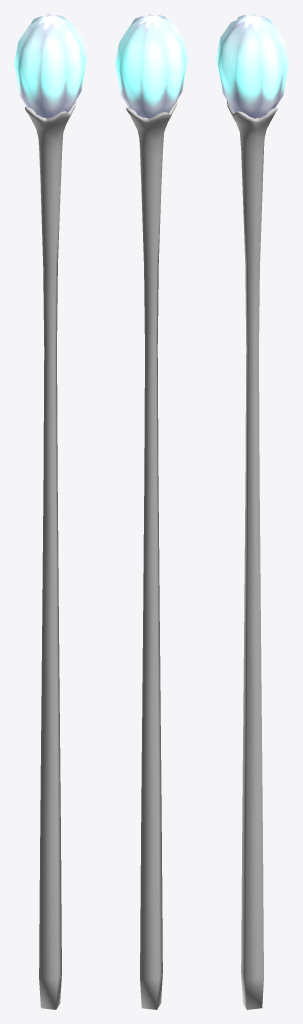
Rendered from GlowbushBud_2.fbx.
3 renders of one model, left to right at view 1: azimuth 30°, elevation 25°; view 2: azimuth 210°, elevation 25°; view 3: azimuth 330°, elevation 25°, orthographic.
Parts seen in each view (by area): view 1: Glowbush_Bud2; view 2: Glowbush_Bud2; view 3: Glowbush_Bud2.
Boxes of the visible parts, box(x1,y1,x2,y2) form: Glowbush_Bud2: box(14, 14, 86, 1009); Glowbush_Bud2: box(115, 14, 187, 1009); Glowbush_Bud2: box(216, 14, 288, 1009).
Bounding box in the file's own units: 9.91 × 149 × 9.3.
